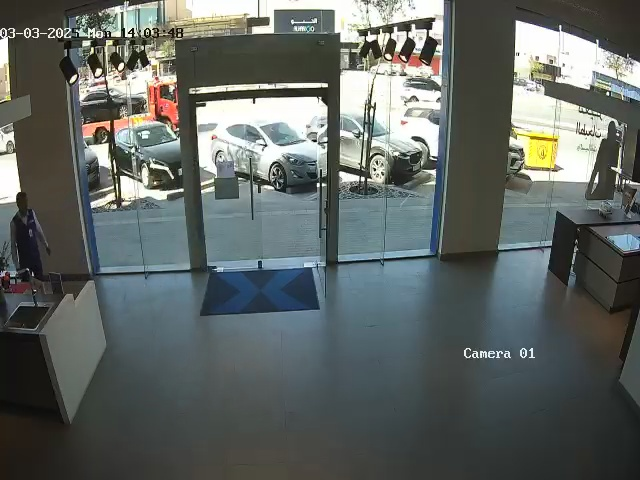employee: (10, 191, 51, 281)
